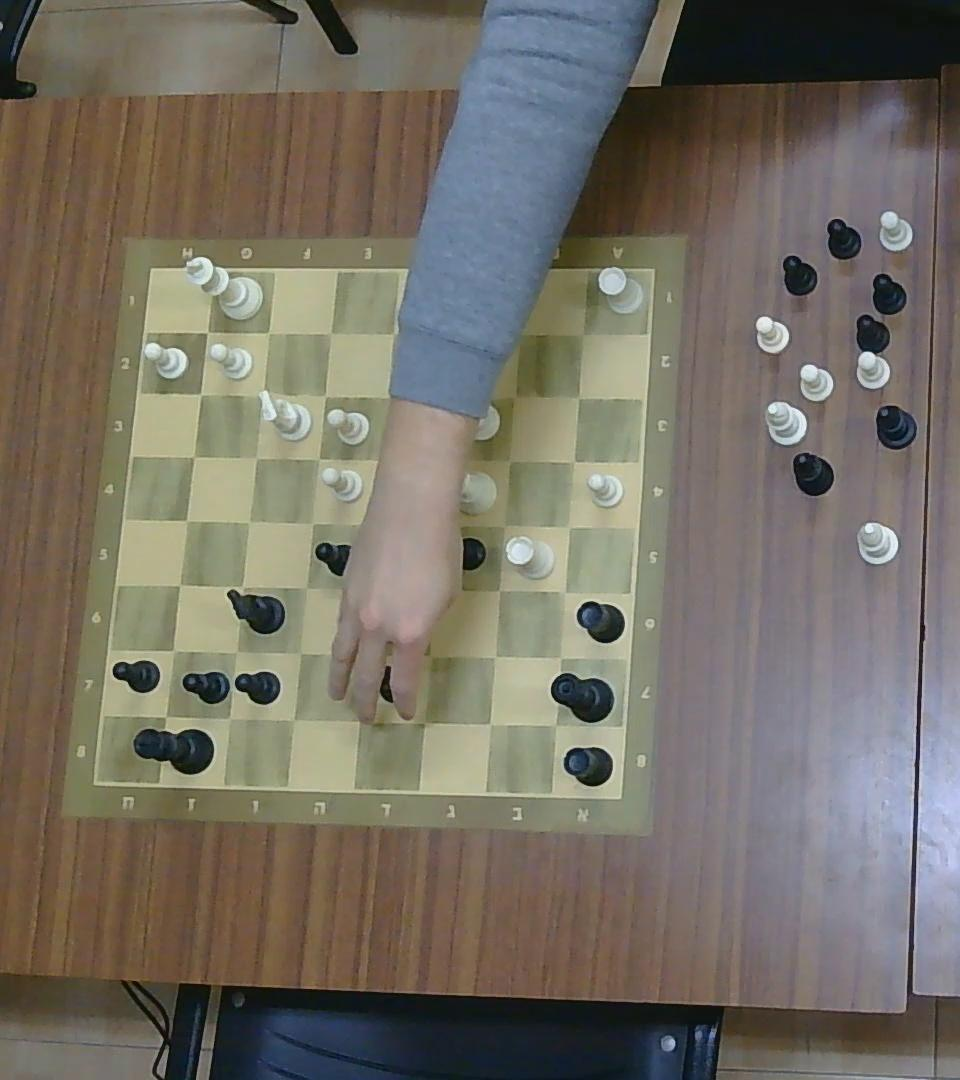xcorner: (417, 514, 445, 545), (568, 318, 596, 346), (215, 702, 242, 731), (476, 709, 503, 738), (558, 446, 585, 475), (542, 711, 569, 739), (416, 642, 443, 670), (380, 318, 407, 346), (418, 580, 446, 607), (280, 704, 306, 733), (411, 707, 437, 736), (365, 446, 391, 475), (481, 642, 507, 670), (556, 512, 582, 540), (153, 701, 179, 729), (352, 642, 378, 670), (374, 382, 400, 410), (287, 638, 312, 667), (551, 577, 576, 606), (347, 707, 372, 736), (161, 635, 186, 664), (186, 379, 212, 406), (547, 642, 573, 669), (167, 571, 192, 599), (293, 573, 318, 601), (174, 505, 198, 534), (235, 507, 260, 534), (311, 381, 336, 408), (486, 577, 511, 604), (496, 447, 521, 474), (229, 573, 254, 600), (223, 637, 247, 665), (444, 318, 468, 346), (354, 512, 378, 540), (249, 380, 274, 406), (491, 513, 516, 539), (318, 318, 342, 345), (195, 317, 219, 344), (431, 448, 455, 475), (354, 578, 378, 605), (181, 442, 205, 468), (256, 319, 280, 345), (566, 383, 590, 409), (305, 446, 329, 471), (510, 319, 533, 345), (438, 383, 461, 409), (245, 444, 268, 469), (503, 382, 526, 407), (300, 510, 323, 535)
